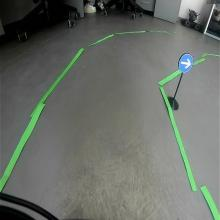right: (178, 52, 194, 73)
